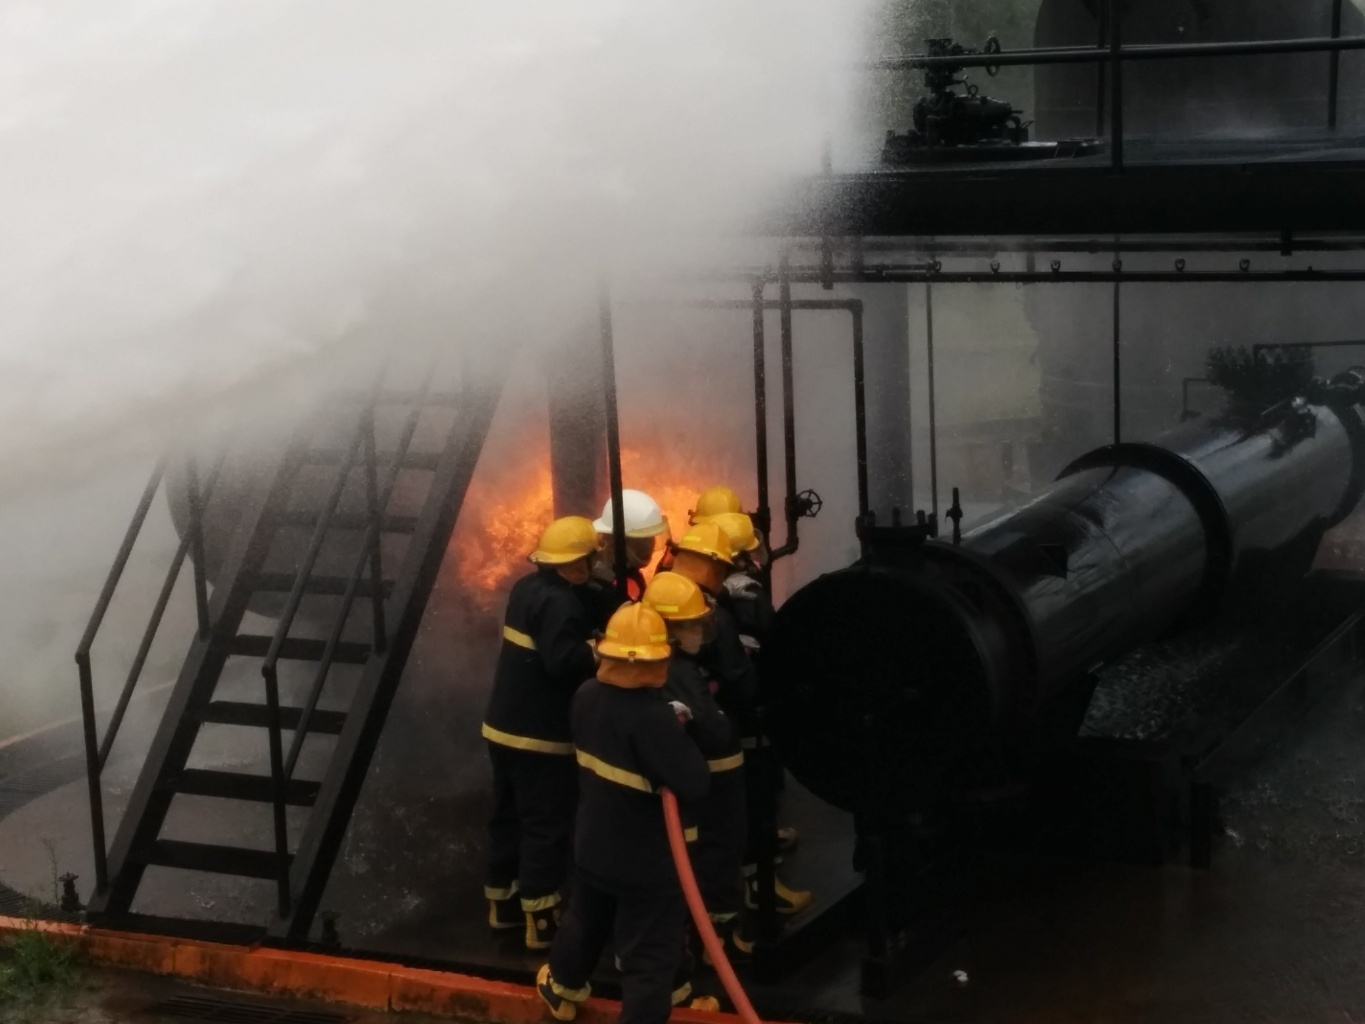fire: (449, 429, 755, 605)
